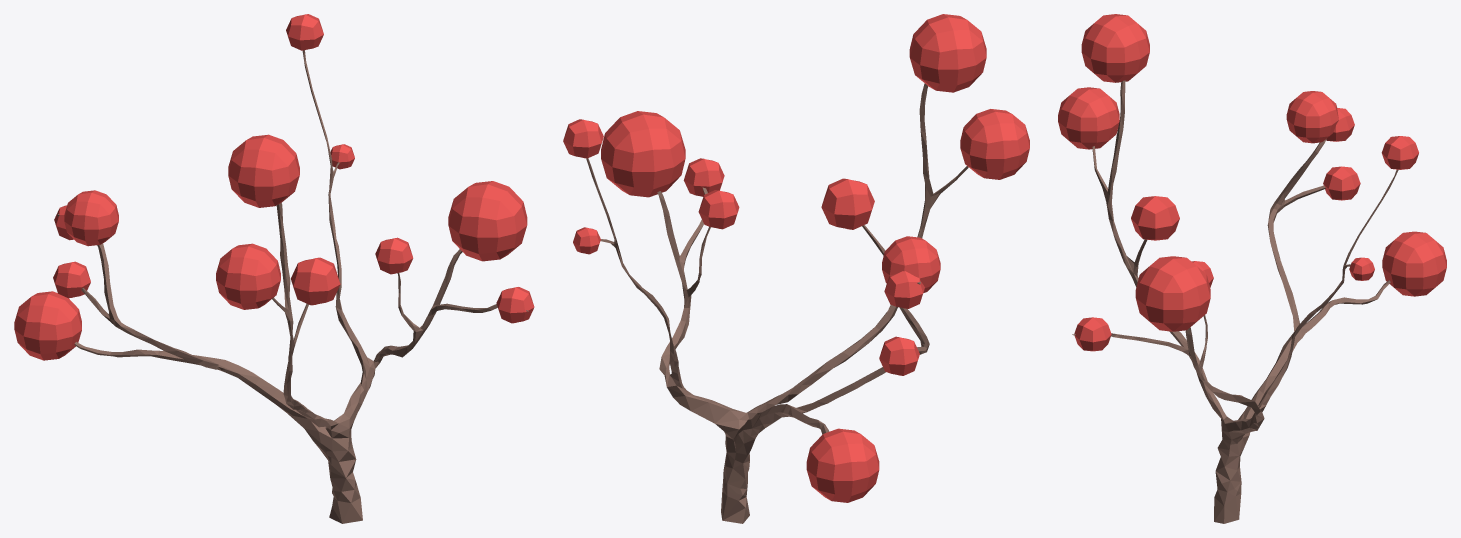
The model's file is fantasy_plant_046.fbx.
The picture shows the model from 3 angles, left to right: view 1: azimuth 30°, elevation 25°; view 2: azimuth 150°, elevation 25°; view 3: azimuth 270°, elevation 25°; orthographic projection. The views are drawn at different scales.
Visible parts, largest first — view 1: fantasy_plant.046; view 2: fantasy_plant.046; view 3: fantasy_plant.046.
Boxes of the visible parts, <box> form: fantasy_plant.046: <box>14,14,534,523</box>; fantasy_plant.046: <box>563,14,1029,523</box>; fantasy_plant.046: <box>1058,14,1446,523</box>.
Size of the model in its own units: 1651 by 1894 by 1533.
Materials: 1 (1 with a texture image).
